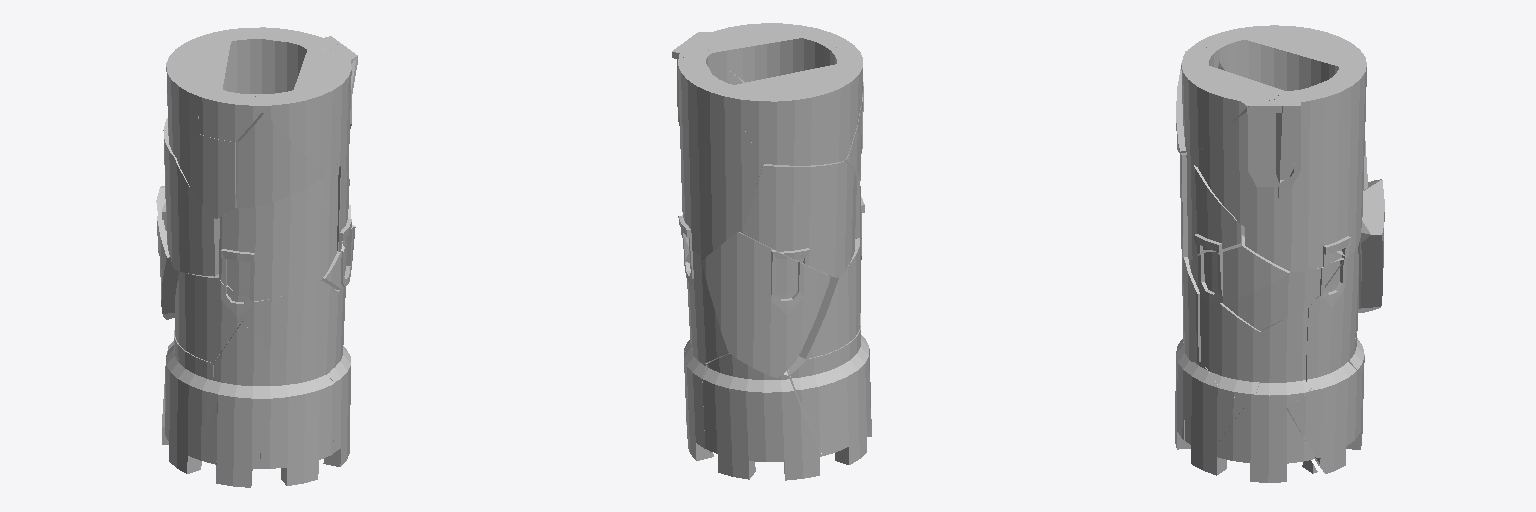
The model's file is destruction_tower_000015.obj.
3 views of the same model, side by side, from view 1: azimuth 30°, elevation 25°; view 2: azimuth 150°, elevation 25°; view 3: azimuth 270°, elevation 25° (orthographic).
Parts seen in each view (by area): view 1: tower.001_cell.024_Mesh.024, tower.001_cell.028_Mesh.028, tower.001_cell.021_Mesh.021, tower.001_cell.006_Mesh.006, tower.001_cell.011_Mesh.011, tower.001_cell.002_Mesh.002, tower.001_cell.013_Mesh.013, tower.001_cell.015_Mesh.015, tower.001_cell.003_Mesh.003, tower.001_cell.009_Mesh.009, tower.001_cell.017_Mesh.017, tower.001_cell.014_Mesh.014 (+10 smaller); view 2: tower.001_cell.025_Mesh.025, tower.001_cell.017_Mesh.017, tower.001_cell.007_Mesh.007, tower.001_cell.015_Mesh.015, tower.001_cell.003_Mesh.003, tower.001_cell.005_Mesh.005, tower.001_cell.028_Mesh.028, tower.001_cell.009_Mesh.009, tower.001_cell.012_Mesh.012, tower.001_cell.029_Mesh.029, tower.001_cell.006_Mesh.006, tower.001_cell.026_Mesh.026 (+2 smaller); view 3: tower.001_cell.017_Mesh.017, tower.001_cell.020_Mesh.020, tower.001_cell.015_Mesh.015, tower.001_cell.028_Mesh.028, tower.001_cell.030_Mesh.030, tower.001_cell.012_Mesh.012, tower.001_cell.029_Mesh.029, tower.001_cell_Mesh, tower.001_cell.016_Mesh.016, tower.001_cell.010_Mesh.010, tower.001_cell.023_Mesh.023, tower.001_cell.026_Mesh.026 (+10 smaller).
Boxes of the visible parts, <box> form: tower.001_cell.024_Mesh.024: <box>219,177,323,302</box>; tower.001_cell.028_Mesh.028: <box>254,49,357,172</box>; tower.001_cell.021_Mesh.021: <box>243,281,339,385</box>; tower.001_cell.006_Mesh.006: <box>168,389,260,487</box>; tower.001_cell.011_Mesh.011: <box>260,376,333,485</box>; tower.001_cell.002_Mesh.002: <box>236,113,323,208</box>; tower.001_cell.013_Mesh.013: <box>212,321,295,434</box>; tower.001_cell.015_Mesh.015: <box>166,34,230,159</box>; tower.001_cell.003_Mesh.003: <box>162,118,219,276</box>; tower.001_cell.009_Mesh.009: <box>175,272,242,362</box>; tower.001_cell.017_Mesh.017: <box>210,27,315,193</box>; tower.001_cell.014_Mesh.014: <box>177,134,234,218</box>; tower.001_cell.025_Mesh.025: <box>701,232,830,378</box>; tower.001_cell.017_Mesh.017: <box>678,57,763,257</box>; tower.001_cell.007_Mesh.007: <box>702,354,821,480</box>; tower.001_cell.015_Mesh.015: <box>728,64,860,165</box>; tower.001_cell.003_Mesh.003: <box>743,161,856,277</box>; tower.001_cell.005_Mesh.005: <box>788,327,868,455</box>; tower.001_cell.028_Mesh.028: <box>698,23,848,82</box>; tower.001_cell.009_Mesh.009: <box>799,238,861,358</box>; tower.001_cell.012_Mesh.012: <box>684,251,729,363</box>; tower.001_cell.029_Mesh.029: <box>684,352,710,460</box>; tower.001_cell.006_Mesh.006: <box>835,348,871,464</box>; tower.001_cell.026_Mesh.026: <box>672,45,722,125</box>; tower.001_cell.017_Mesh.017: <box>1308,63,1366,257</box>; tower.001_cell.020_Mesh.020: <box>1195,99,1281,226</box>; tower.001_cell.015_Mesh.015: <box>1245,25,1366,90</box>; tower.001_cell.028_Mesh.028: <box>1181,46,1283,157</box>; tower.001_cell.030_Mesh.030: <box>1201,403,1315,482</box>; tower.001_cell.012_Mesh.012: <box>1307,248,1358,388</box>; tower.001_cell.029_Mesh.029: <box>1288,361,1356,473</box>; tower.001_cell_Mesh: <box>1200,294,1260,403</box>; tower.001_cell.016_Mesh.016: <box>1256,308,1309,408</box>; tower.001_cell.010_Mesh.010: <box>1189,235,1289,303</box>; tower.001_cell.023_Mesh.023: <box>1185,362,1246,468</box>; tower.001_cell.026_Mesh.026: <box>1274,88,1307,227</box>.
Bounding box in the file's own units: 45.55 × 97.32 × 48.33.